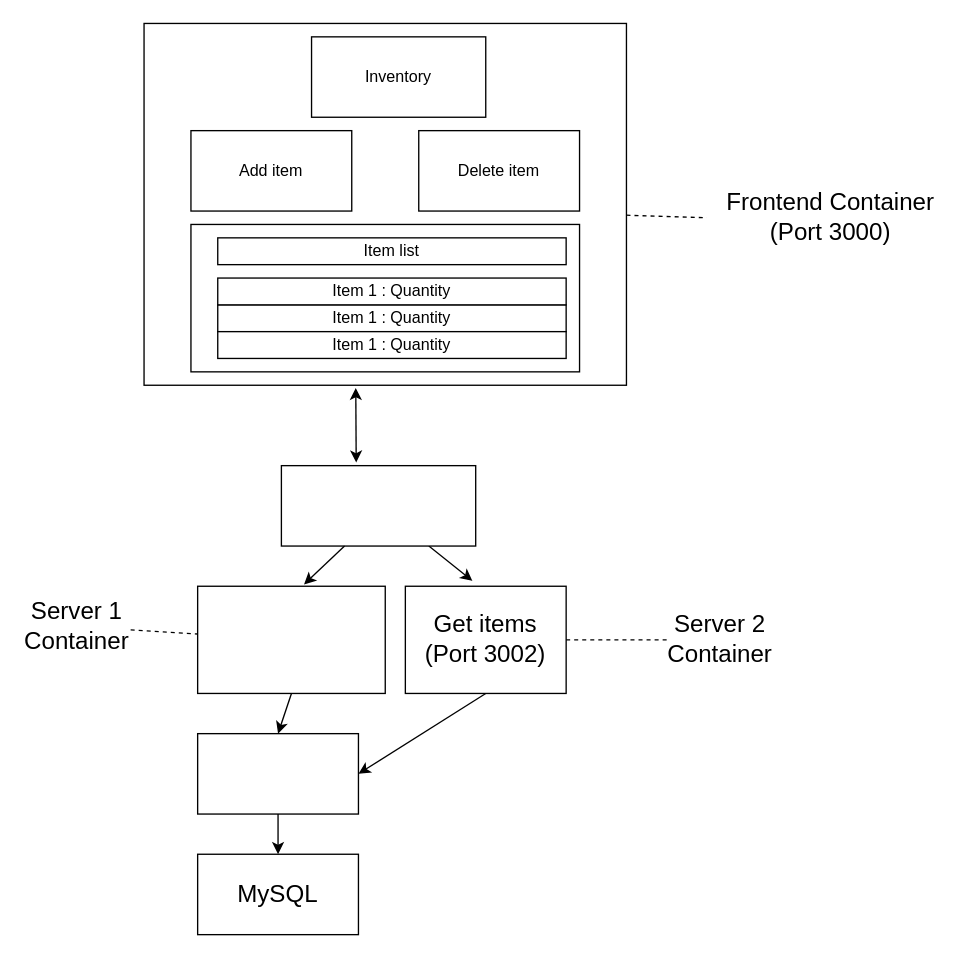
Image size: 977x958. Some labels were removed from this diagram. The box of each missing label's shape, as (x1, y1, x2, y2) in pixels:
Add/Delete item (Port 3001): (196, 585, 385, 693)
Nginx (Port 80): (280, 464, 476, 546)
Redis: (196, 732, 358, 814)
